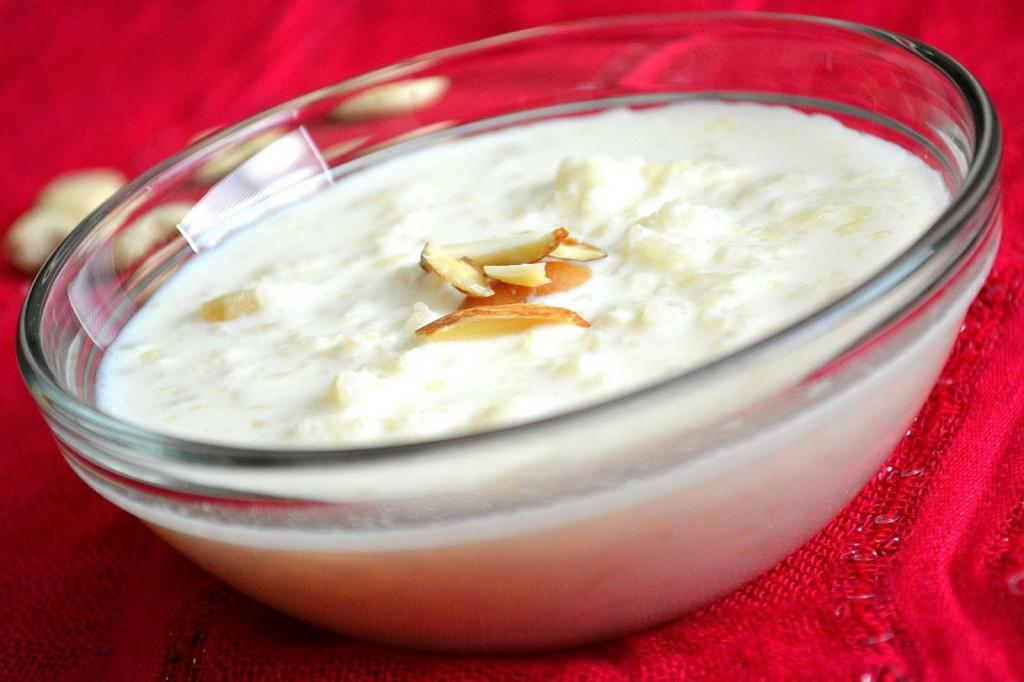Kheer: (96, 99, 943, 631)
